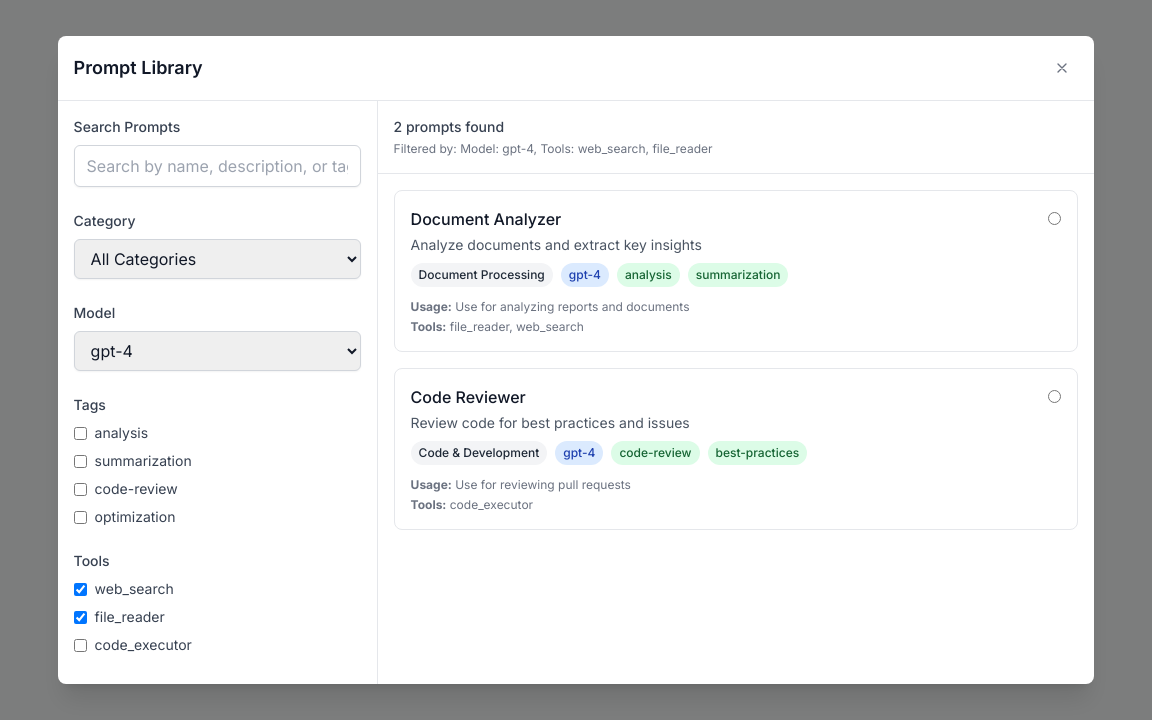
it: PromptLibraryModal › Prompt Selection › should show apply button when prompt is selected
Click the element with test id "prompt-doc-analyzer" at (736, 271), box x1=394 y1=190 x2=1078 y2=352
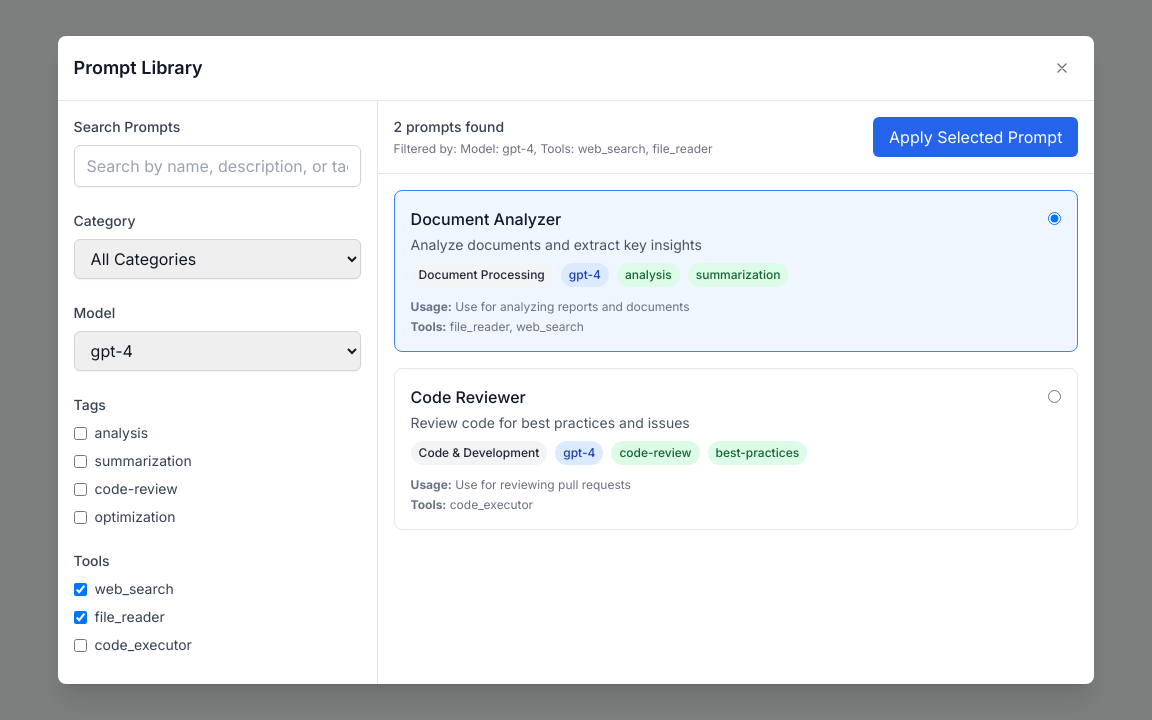
expect the button "Apply Selected Prompt" is shown: met, box x1=873 y1=117 x2=1078 y2=157
